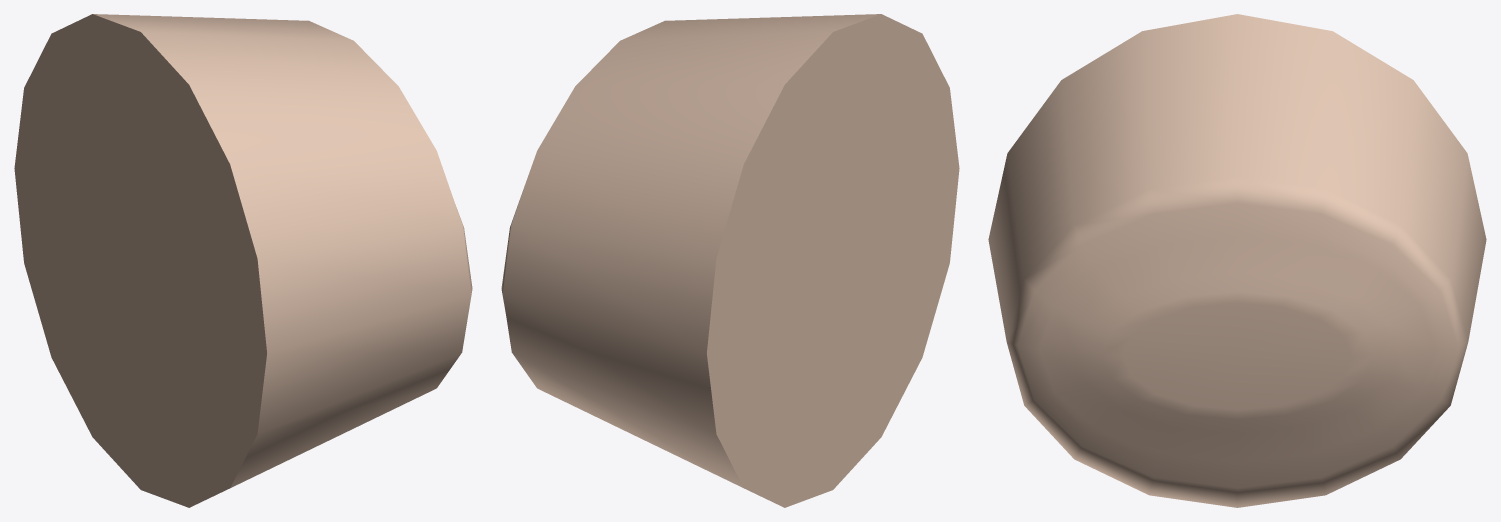
File: kol_model_with_anim.fbx
3 renders of one model, left to right at view 1: azimuth 30°, elevation 25°; view 2: azimuth 150°, elevation 25°; view 3: azimuth 270°, elevation 25°, orthographic.
Visible parts, largest first — view 1: pCylinder2; view 2: pCylinder2; view 3: pCylinder2.
Part boxes in pixels (box(x1,y1,x2,y2)): pCylinder2: box(14, 14, 472, 507); pCylinder2: box(501, 14, 959, 507); pCylinder2: box(988, 14, 1486, 507).
Size of the model in its own units: 0.5545 by 1 by 1.
